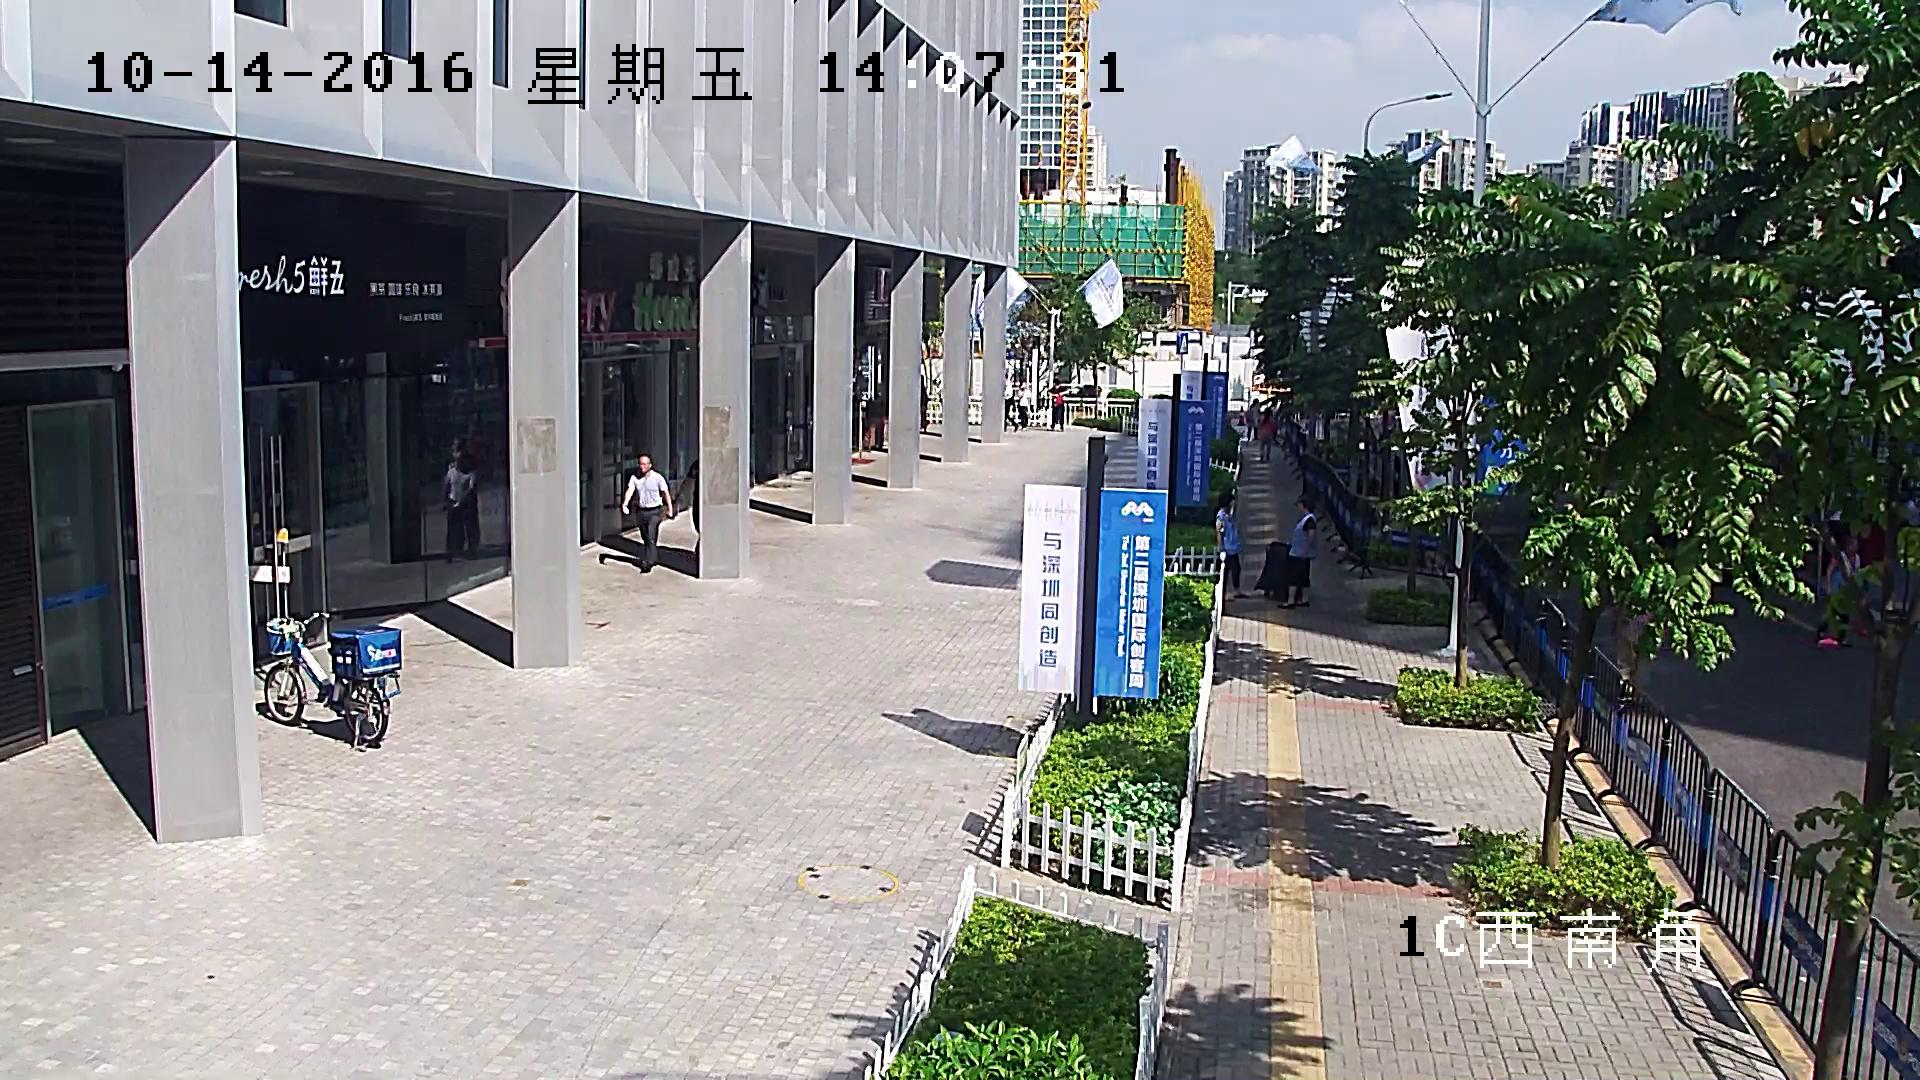person: (1253, 496, 1317, 610), (622, 454, 671, 571), (1813, 538, 1860, 648), (1277, 495, 1316, 609), (1215, 493, 1249, 601), (443, 450, 476, 553), (1615, 613, 1650, 710), (672, 457, 698, 554), (1258, 407, 1275, 462), (1005, 372, 1018, 433), (1018, 381, 1031, 430), (1050, 390, 1064, 431), (1246, 399, 1260, 441)
